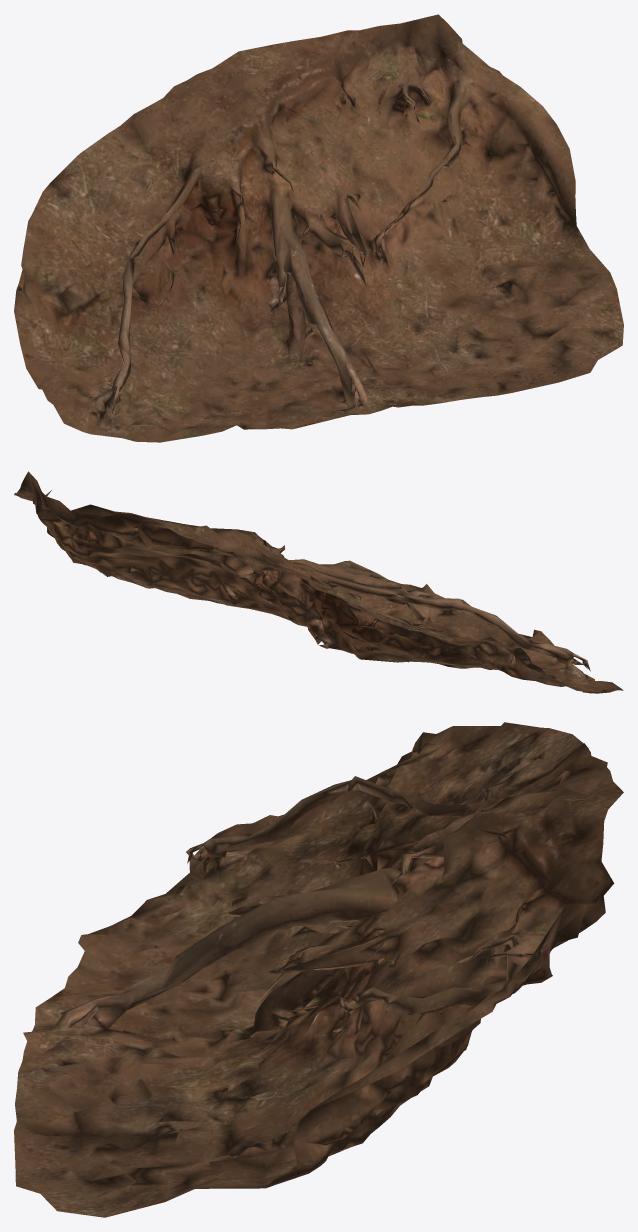
Rendered from root_cluster_01.glb.
3 renders of one model, top to bottom at view 1: azimuth 30°, elevation 25°; view 2: azimuth 150°, elevation 25°; view 3: azimuth 270°, elevation 25°, orthographic. The views are drawn at different scales.
Visible parts, largest first — view 1: root_cluster_01; view 2: root_cluster_01; view 3: root_cluster_01.
Part boxes in pixels (x1,y1,x2,y2): root_cluster_01: (14, 14, 623, 442); root_cluster_01: (14, 471, 623, 693); root_cluster_01: (14, 722, 623, 1217).
Size of the model in its own units: 4.12 by 1.51 by 2.68.
Materials: 1 (1 with a texture image).
